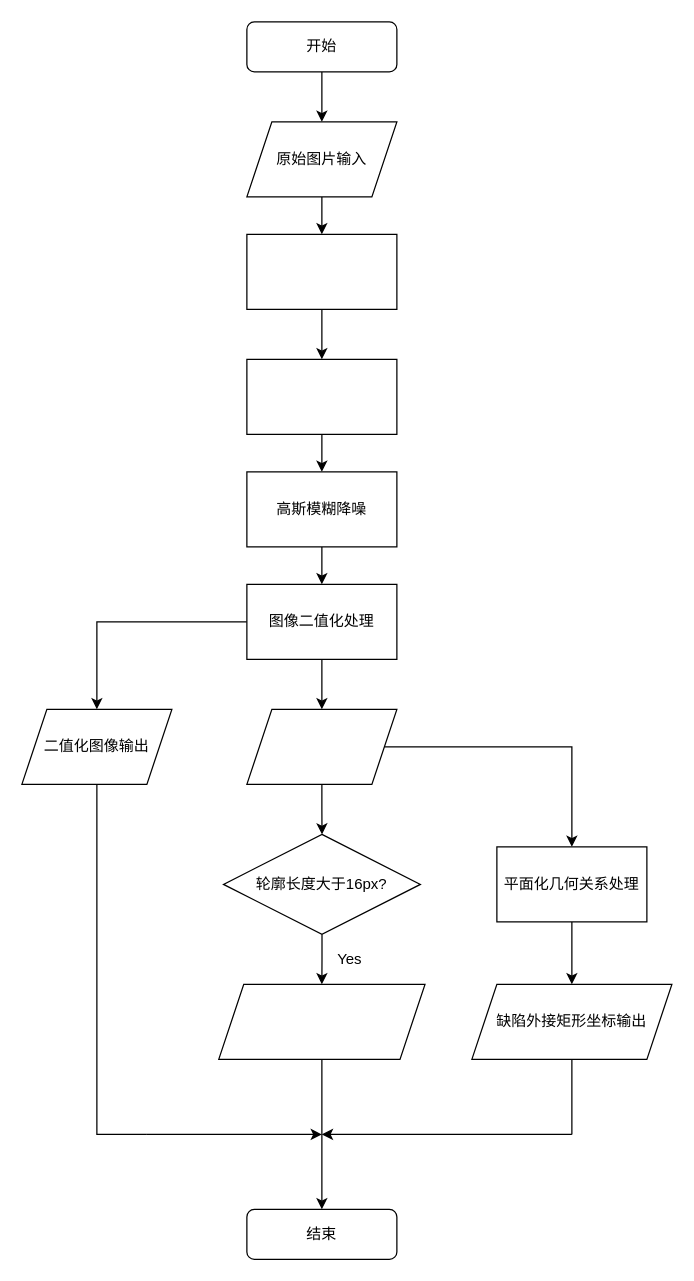
The diagram is 694 pixels wide and 1281 high, and some of its shapes have lost their labels. Each missing label, with the centre of its shape:
"中值滤波" goes at (x=321, y=271).
"图像差分处理" goes at (x=321, y=396).
"忽略部分缺陷结果图输出" goes at (x=321, y=1021).
"缺陷轮廓数据输出" goes at (x=321, y=746).
